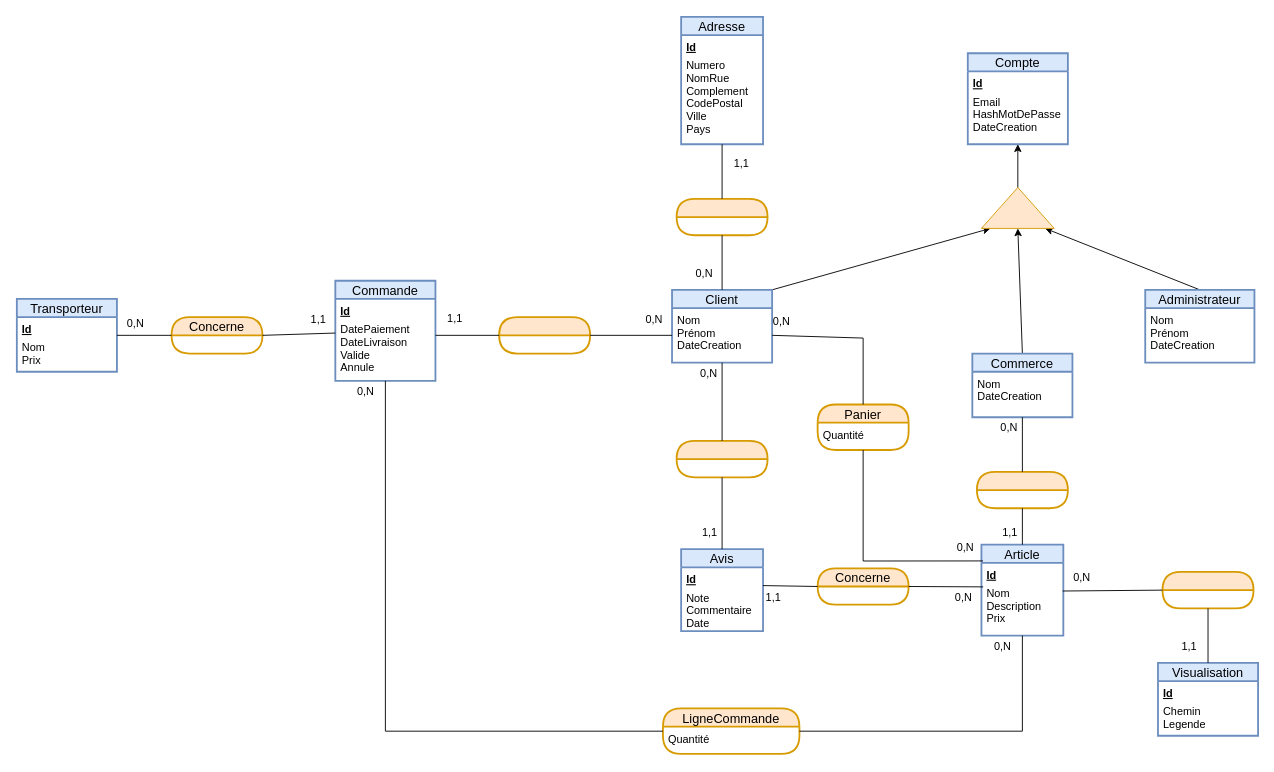
Image size: 1274x772. Some labels were removed from this diagram. Each missing label, with the centre of its shape:
"Donne" goes at pixel 721 459.
"Habite" goes at pixel 721 216.
"Passe" goes at pixel 544 335.
"Posséde" goes at pixel 1207 590.
"Vend" goes at pixel 1022 489.
"XT" goes at pixel 1017 207.
